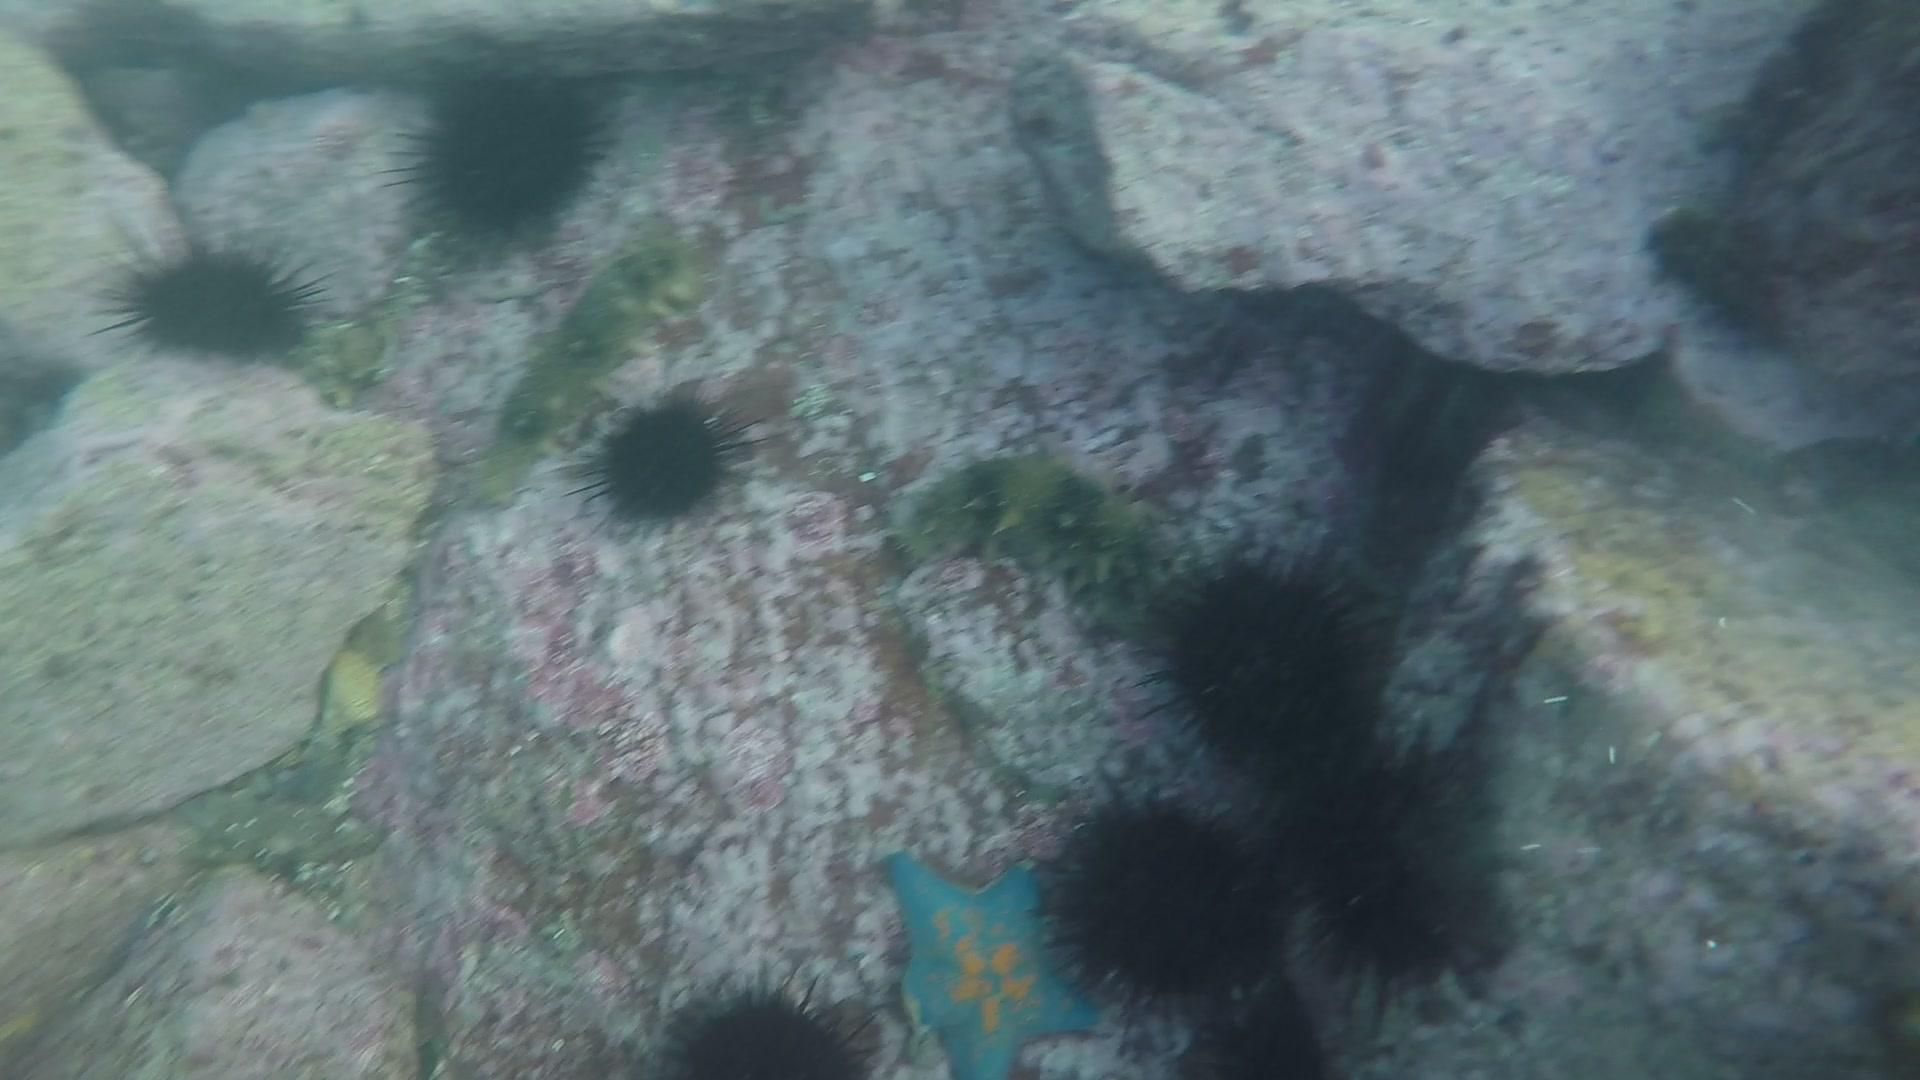echinus: (1029, 762, 1305, 1042), (1147, 538, 1395, 795), (1298, 741, 1519, 1025), (376, 69, 628, 266), (88, 210, 334, 378), (562, 394, 777, 539), (638, 972, 894, 1080)
holothurian: (440, 237, 707, 502), (884, 447, 1212, 604)
starfish: (866, 840, 1118, 1080)
